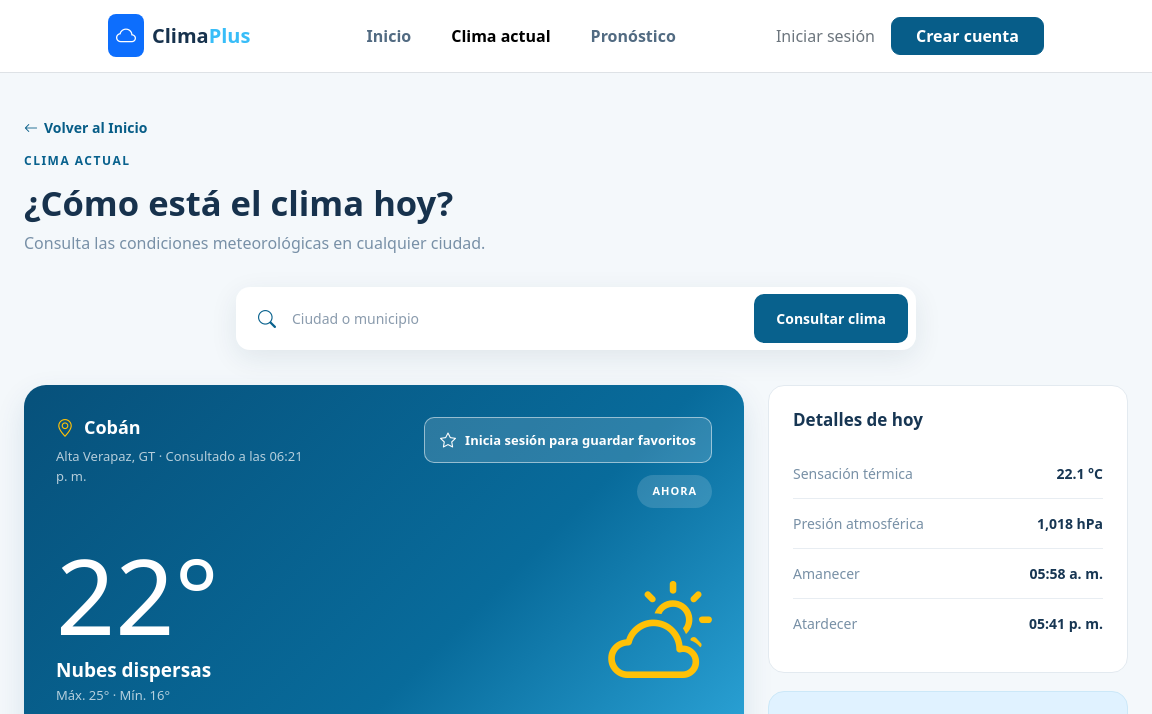
Test case: navegación pública › un visitante consulta el clima sin iniciar sesión y puede volver al Inicio
Expected: the heading "Cobán" is shown, [56,416,141,440]
What coordinates should you click on to do the following:
click the link "Volver al Inicio"
I would click on:
 (86, 128)
Its box is [24,117,147,138].
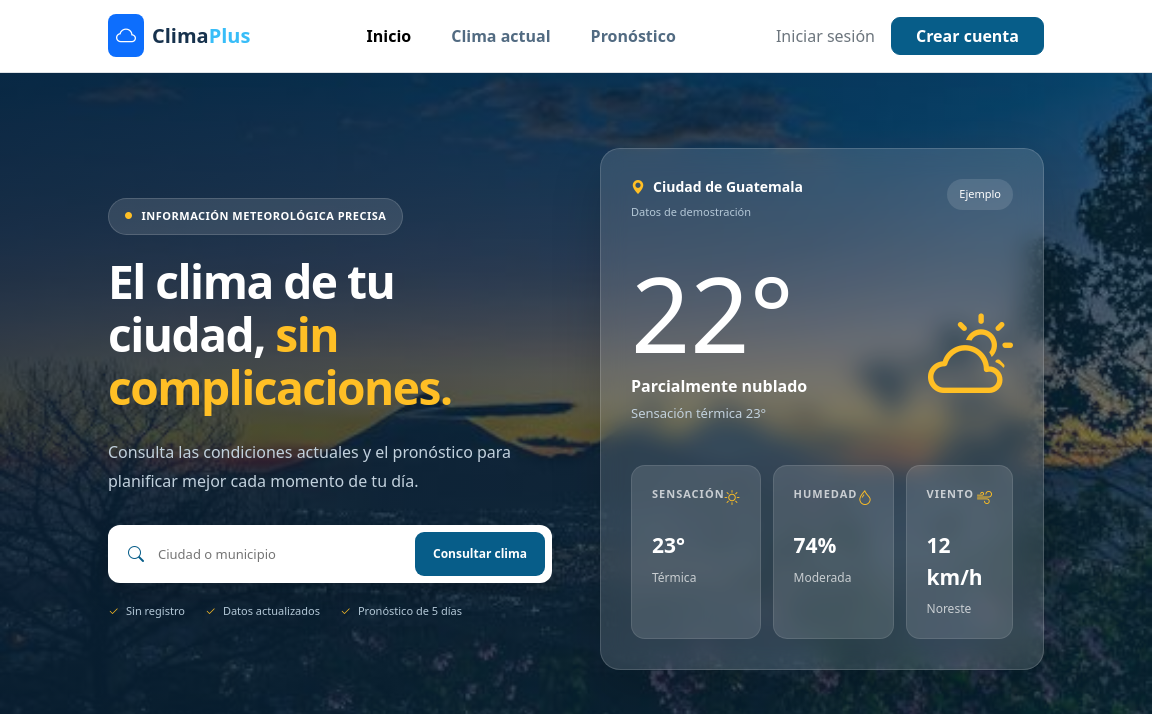
Now the heading "El clima de tu ciudad, sin complicaciones." is shown, box [108,250,452,419]
